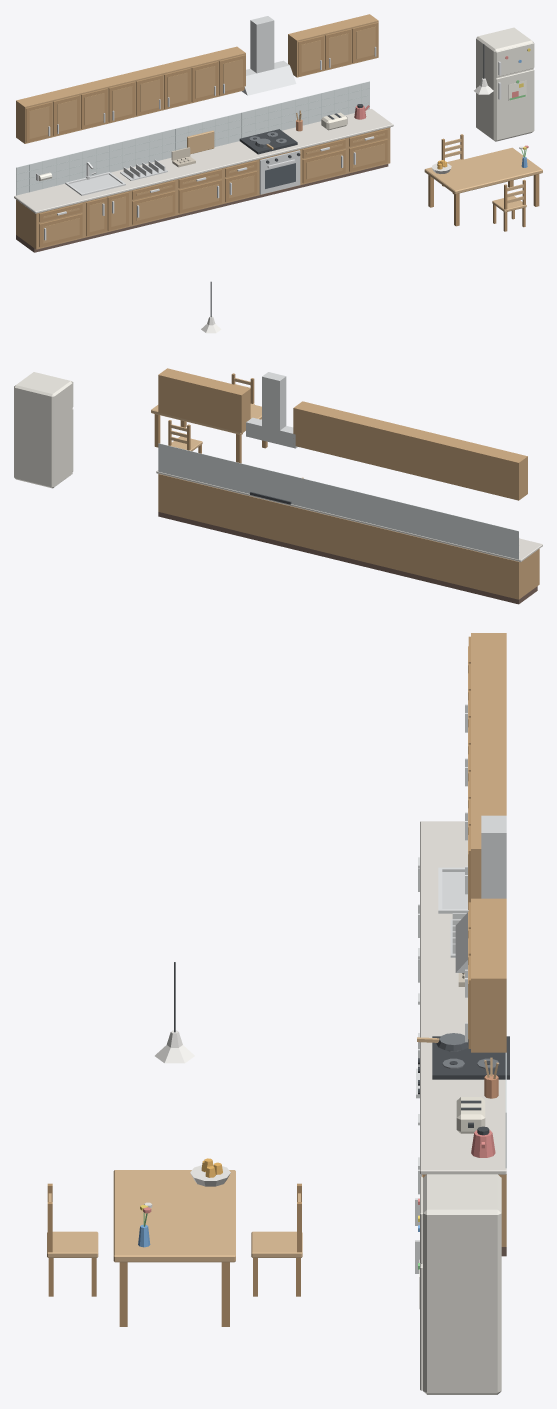
Rendered from house_kitchen.glb.
3 views of the same model, one above another, from view 1: azimuth 30°, elevation 25°; view 2: azimuth 150°, elevation 25°; view 3: azimuth 270°, elevation 25° (orthographic). The views are drawn at different scales.
Parts seen in each view (by area): view 1: cocina_casa_madera_cocina, cocina_casa_madera_marco, cocina_casa_azulejo, cocina_casa_piedra, cocina_casa_nevera, cocina_casa_madera_mesa, cocina_casa_acero, cocina_casa_cromo, cocina_casa_azulejo_linea, cocina_casa_zocalo, cocina_casa_oscuro, cocina_casa_vidrio_horno (+4 smaller); view 2: cocina_casa_madera_cocina, cocina_casa_azulejo, cocina_casa_nevera, cocina_casa_acero, cocina_casa_zocalo, cocina_casa_piedra, cocina_casa_madera_mesa, cocina_casa_madera_marco; view 3: cocina_casa_nevera, cocina_casa_piedra, cocina_casa_madera_cocina, cocina_casa_madera_mesa, cocina_casa_madera_marco, cocina_casa_acero, cocina_casa_oscuro, cocina_casa_cromo, cocina_casa_blanco, cocina_casa_crema_tostadora.
Boxes of the visible parts, x1,y1,x2,y2 form: cocina_casa_madera_cocina: [16, 14, 390, 249]; cocina_casa_madera_marco: [25, 22, 539, 247]; cocina_casa_azulejo: [16, 81, 369, 195]; cocina_casa_piedra: [14, 109, 393, 213]; cocina_casa_nevera: [476, 27, 534, 141]; cocina_casa_madera_mesa: [187, 110, 542, 212]; cocina_casa_acero: [70, 16, 300, 194]; cocina_casa_cromo: [36, 47, 501, 240]; cocina_casa_azulejo_linea: [16, 84, 369, 192]; cocina_casa_zocalo: [16, 164, 388, 252]; cocina_casa_oscuro: [239, 44, 484, 163]; cocina_casa_vidrio_horno: [265, 163, 295, 188]; cocina_casa_madera_cocina: [158, 368, 539, 599]; cocina_casa_azulejo: [158, 443, 518, 559]; cocina_casa_nevera: [14, 372, 73, 488]; cocina_casa_acero: [246, 372, 297, 448]; cocina_casa_zocalo: [158, 512, 537, 604]; cocina_casa_piedra: [156, 470, 542, 562]; cocina_casa_madera_mesa: [151, 378, 303, 478]; cocina_casa_madera_marco: [154, 373, 267, 463]; cocina_casa_nevera: [420, 1174, 501, 1394]; cocina_casa_piedra: [420, 821, 506, 1174]; cocina_casa_madera_cocina: [422, 633, 506, 1246]; cocina_casa_madera_mesa: [47, 1037, 498, 1262]; cocina_casa_madera_marco: [47, 636, 470, 1326]; cocina_casa_acero: [442, 815, 506, 972]; cocina_casa_oscuro: [174, 962, 509, 1135]; cocina_casa_cromo: [415, 704, 468, 1273]; cocina_casa_blanco: [144, 1030, 230, 1207]; cocina_casa_crema_tostadora: [456, 1097, 485, 1133].
Bounding box in the file's own units: 11.3 × 3.5 × 4.53.
